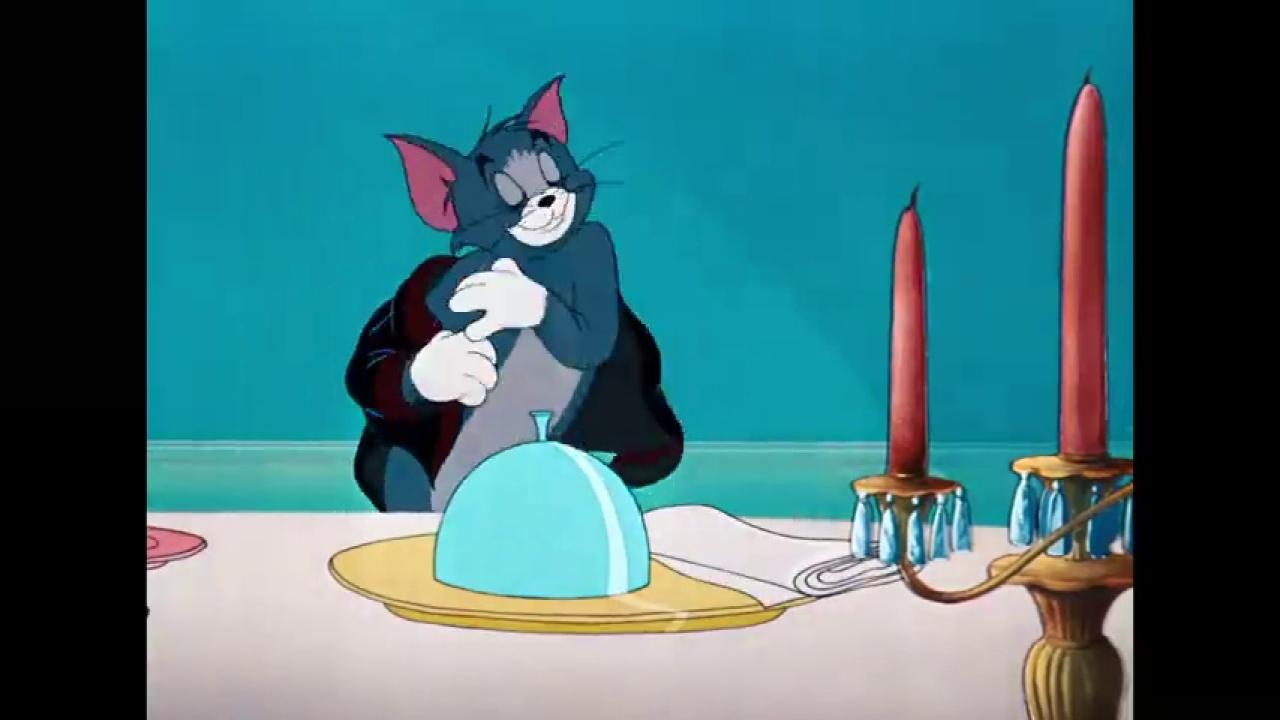Tom: (342, 71, 624, 513)
